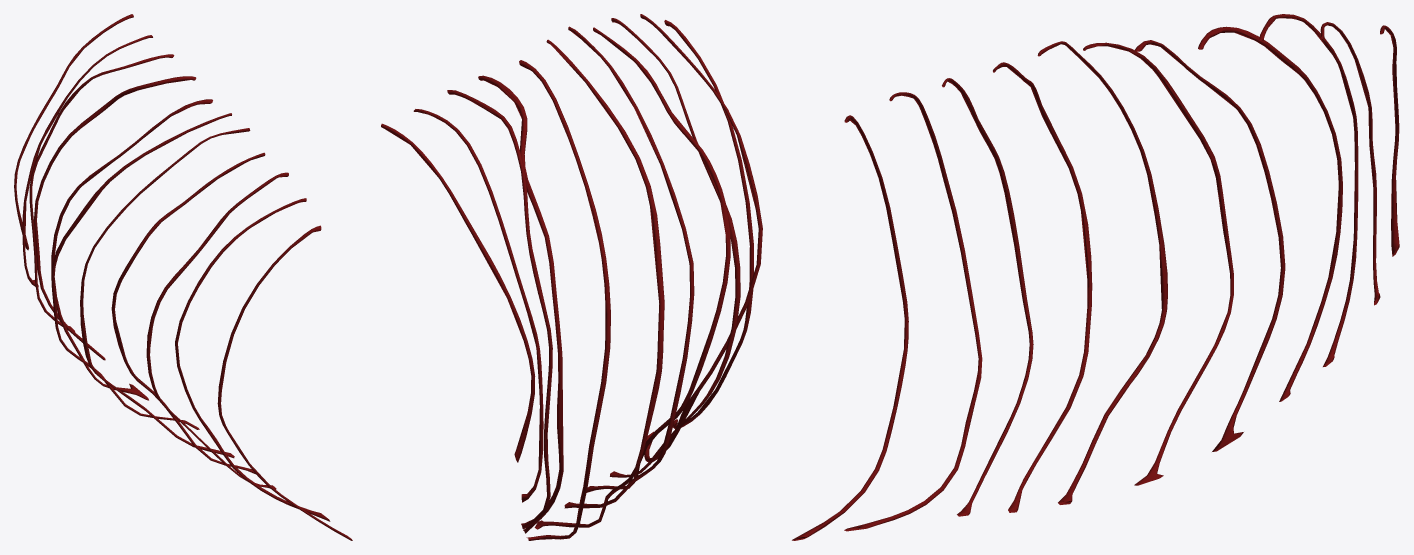
The model's file is R rami intercostales ventrales.fbx.
3 renders of one model, left to right at view 1: azimuth 30°, elevation 25°; view 2: azimuth 150°, elevation 25°; view 3: azimuth 270°, elevation 25°, orthographic. The views are drawn at different scales.
Parts seen in each view (by area): view 1: R rami intercostales ventrales, R rami intercostales ventrales low; view 2: R rami intercostales ventrales, R rami intercostales ventrales low; view 3: R rami intercostales ventrales, R rami intercostales ventrales low.
Part boxes in pixels (left/top/right/bottom): R rami intercostales ventrales: left=14, top=14, right=352, bottom=540; R rami intercostales ventrales low: left=15, top=17, right=349, bottom=538; R rami intercostales ventrales: left=381, top=14, right=762, bottom=540; R rami intercostales ventrales low: left=382, top=17, right=762, bottom=539; R rami intercostales ventrales: left=792, top=14, right=1399, bottom=540; R rami intercostales ventrales low: left=792, top=16, right=1399, bottom=539.
Size of the model in its own units: 16.3 by 39.81 by 43.25.
